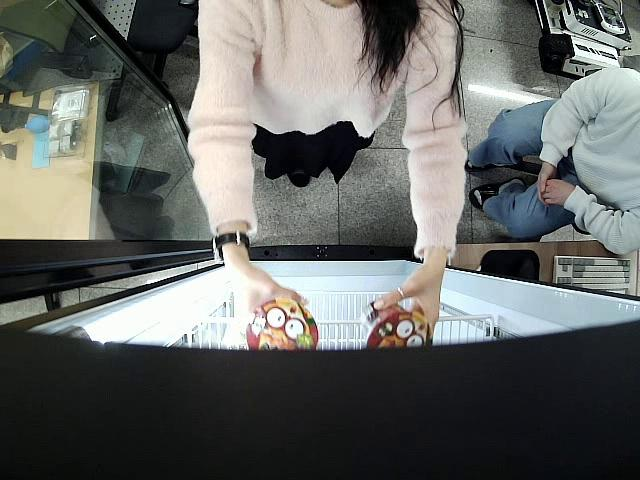00_hand: (224, 256, 309, 346), (374, 262, 440, 328)
06_nuguri_S: (244, 299, 320, 359), (356, 299, 434, 353)
